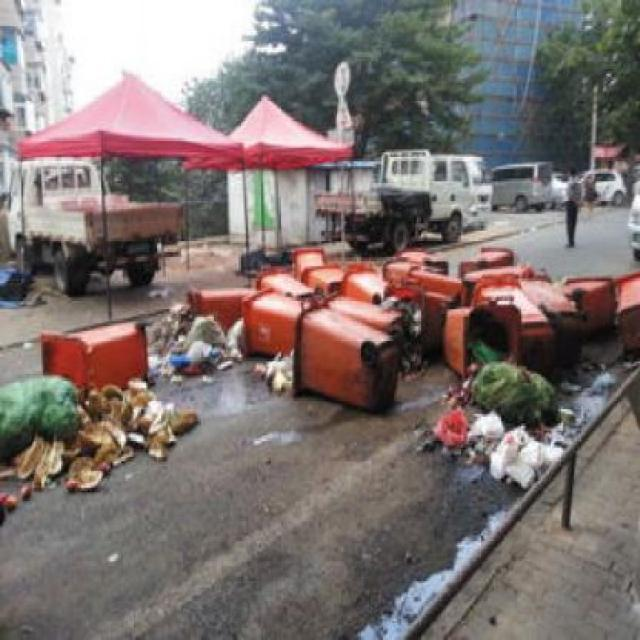garbage: (5, 366, 176, 478), (431, 352, 556, 480), (148, 300, 236, 372)
